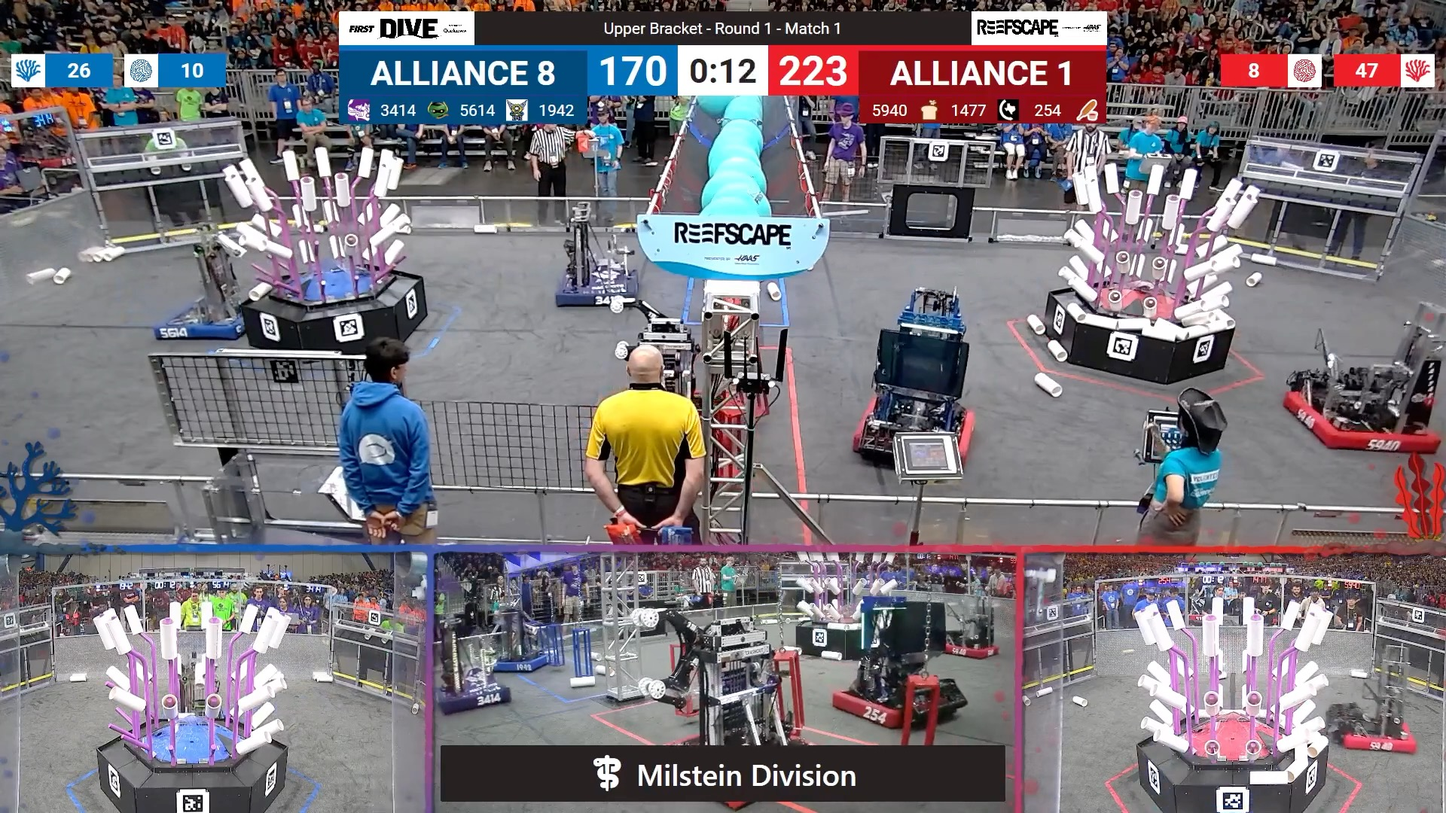bumpers: (1273, 382, 1439, 459), (844, 397, 978, 472), (824, 682, 943, 730), (153, 290, 247, 345), (1324, 709, 1421, 760), (552, 260, 645, 312), (428, 681, 513, 718), (486, 655, 556, 678), (939, 636, 1002, 659)
